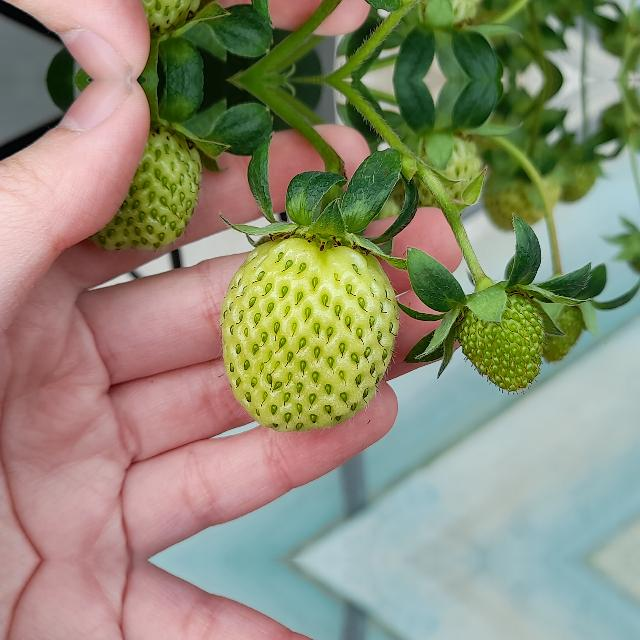Health_25: (220, 234, 400, 432), (92, 126, 208, 256), (461, 292, 551, 398), (91, 0, 208, 34)
